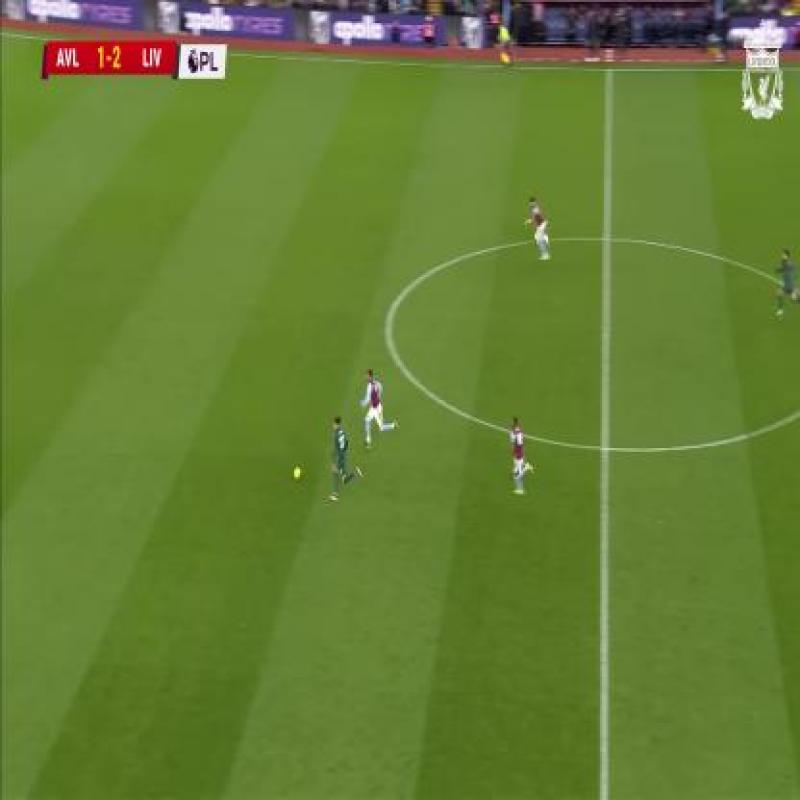13: (590, 55, 629, 90)
14: (592, 213, 623, 266)
15: (588, 423, 624, 475)
c: (366, 290, 414, 352)
